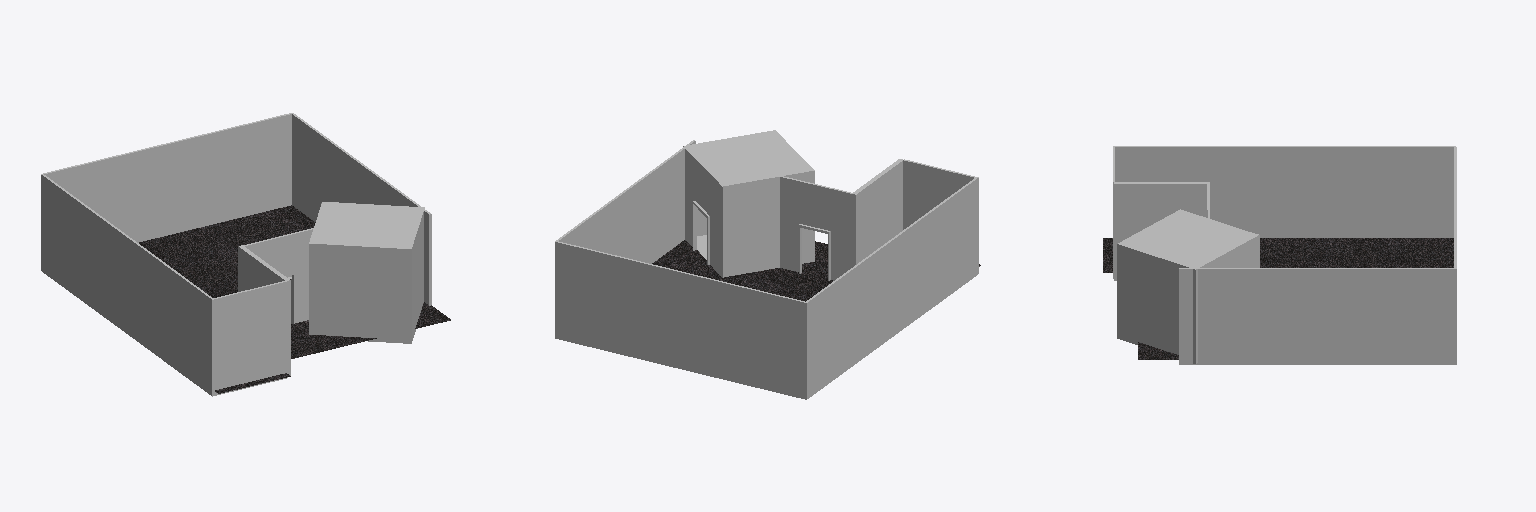
3 views of the same model, side by side, from view 1: azimuth 30°, elevation 25°; view 2: azimuth 150°, elevation 25°; view 3: azimuth 270°, elevation 25° (orthographic).
Parts seen in each view (by area): view 1: Cube.020_OfficeWall, ElevatorRoom_OfficeWall, Cube.019_OfficeWall, Plane.046_Carpet.002, Cube.025_OfficeWall, Cube.018_OfficeWall, Cube.022_OfficeWall, Cube.015_OfficeWall, Cube.021_OfficeWall; view 2: Cube.020_OfficeWall, Cube.019_OfficeWall, ElevatorRoom_OfficeWall, Cube.018_OfficeWall, Cube.015_OfficeWall, Cube.022_OfficeWall, Plane.046_Carpet.002, Cube.021_OfficeWall, Cube.006_OfficeWall, Cube.025_OfficeWall; view 3: Cube.018_OfficeWall, Cube.019_OfficeWall, ElevatorRoom_OfficeWall, Plane.046_Carpet.002, Cube.021_OfficeWall, Cube.022_OfficeWall, Cube.006_OfficeWall.
Boxes of the visible parts, box(x1,y1,x2,y2) form: Cube.020_OfficeWall: box(43, 113, 292, 242); ElevatorRoom_OfficeWall: box(309, 203, 423, 343); Cube.019_OfficeWall: box(41, 174, 183, 360); Plane.046_Carpet.002: box(139, 205, 450, 358); Cube.025_OfficeWall: box(212, 281, 286, 396); Cube.018_OfficeWall: box(291, 113, 431, 305); Cube.022_OfficeWall: box(164, 264, 213, 395); Cube.015_OfficeWall: box(243, 228, 313, 323); Cube.021_OfficeWall: box(238, 245, 290, 377); Cube.020_OfficeWall: box(555, 241, 804, 398); Cube.019_OfficeWall: box(805, 198, 948, 399); ElevatorRoom_OfficeWall: box(687, 130, 814, 276); Cube.018_OfficeWall: box(555, 140, 695, 263); Cube.015_OfficeWall: box(780, 176, 851, 280); Cube.022_OfficeWall: box(929, 178, 977, 309); Plane.046_Carpet.002: box(652, 240, 832, 301); Cube.021_OfficeWall: box(852, 159, 902, 267); Cube.006_OfficeWall: box(683, 146, 724, 277); Cube.025_OfficeWall: box(903, 159, 978, 273); Cube.018_OfficeWall: box(1179, 268, 1455, 364); Cube.019_OfficeWall: box(1170, 146, 1455, 237); ElevatorRoom_OfficeWall: box(1117, 209, 1256, 363); Plane.046_Carpet.002: box(1138, 238, 1453, 359); Cube.021_OfficeWall: box(1114, 182, 1209, 280); Cube.022_OfficeWall: box(1114, 146, 1169, 181); Cube.006_OfficeWall: box(1194, 234, 1259, 363).
Bounding box in the file's own units: 11.25 × 4.09 × 13.53.
2 materials, 1 textured.